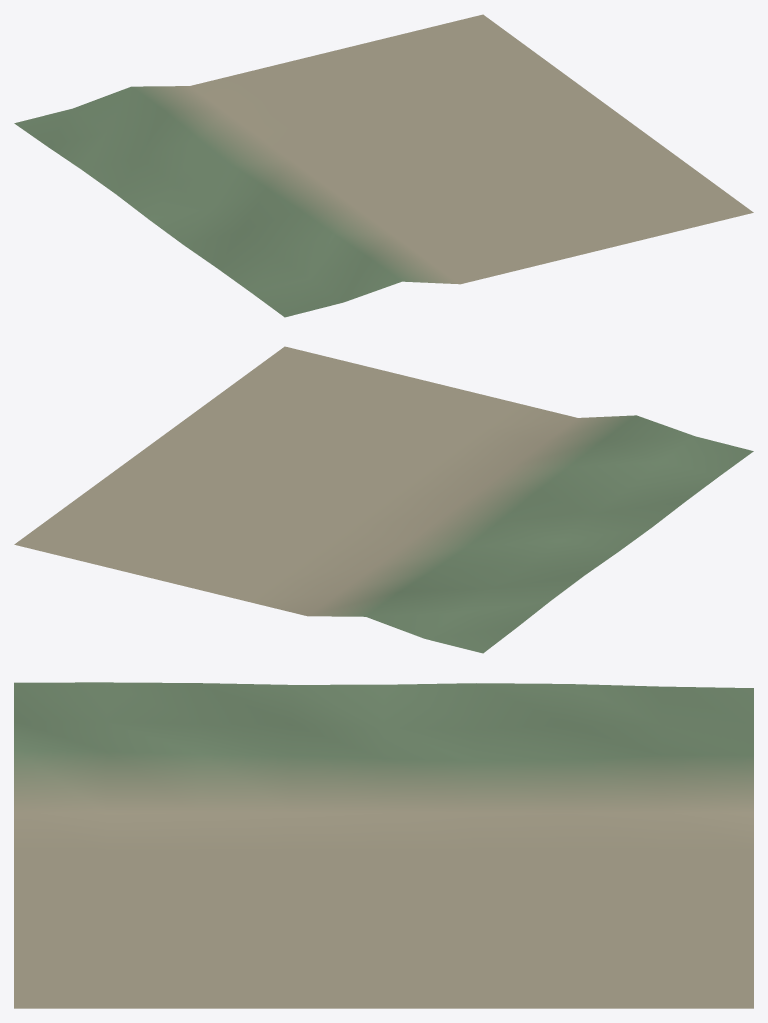
3 renders of one model, top to bottom at view 1: azimuth 30°, elevation 25°; view 2: azimuth 150°, elevation 25°; view 3: azimuth 270°, elevation 25°, orthographic. The views are drawn at different scales.
Parts seen in each view (by area): view 1: Lo; view 2: Lo; view 3: Lo.
Part boxes in pixels (x1=…): Lo: x1=14, y1=14, x2=753, y2=317; Lo: x1=14, y1=346, x2=753, y2=653; Lo: x1=14, y1=682, x2=753, y2=1008.
Size of the model in its own units: 256 by 8.81 by 256.
